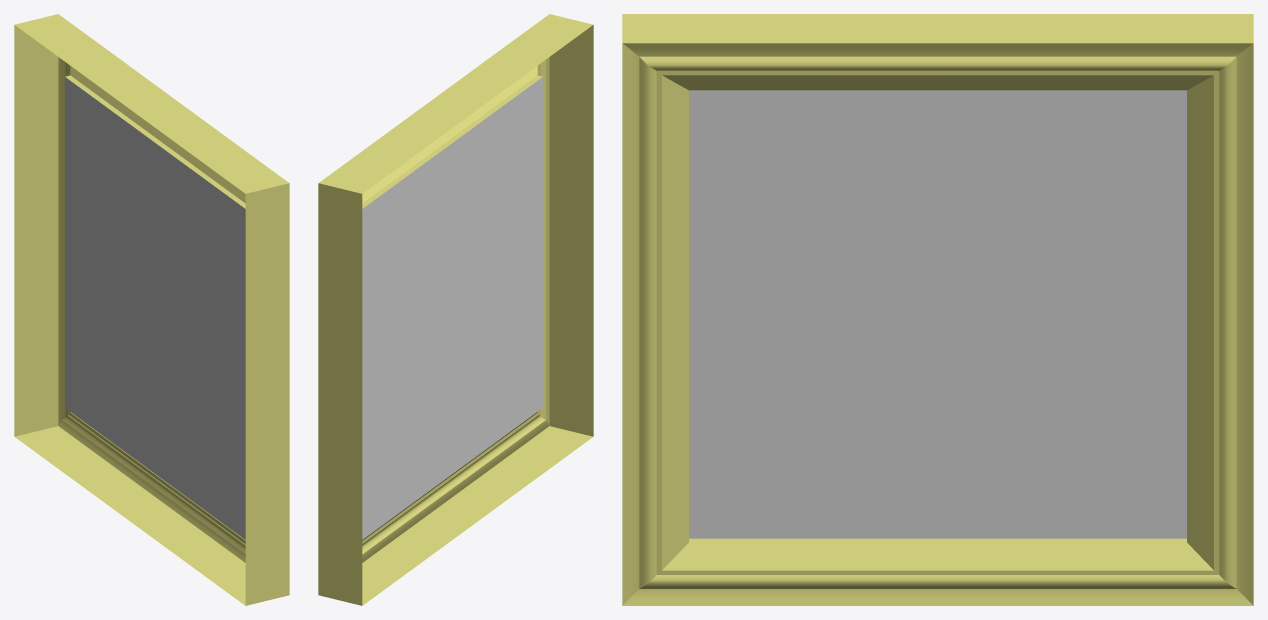
File: square.fbx
3 views of the same model, side by side, from view 1: azimuth 30°, elevation 25°; view 2: azimuth 150°, elevation 25°; view 3: azimuth 270°, elevation 25° (orthographic). The views are drawn at different scales.
Parts seen in each view (by area): view 1: Plane.006; view 2: Plane.006; view 3: Plane.006.
Part boxes in pixels (x1,y1,x2,y2): Plane.006: [14, 14, 289, 605]; Plane.006: [318, 14, 593, 605]; Plane.006: [622, 14, 1253, 605].
Size of the model in its own units: 27.87 by 250 by 254.
